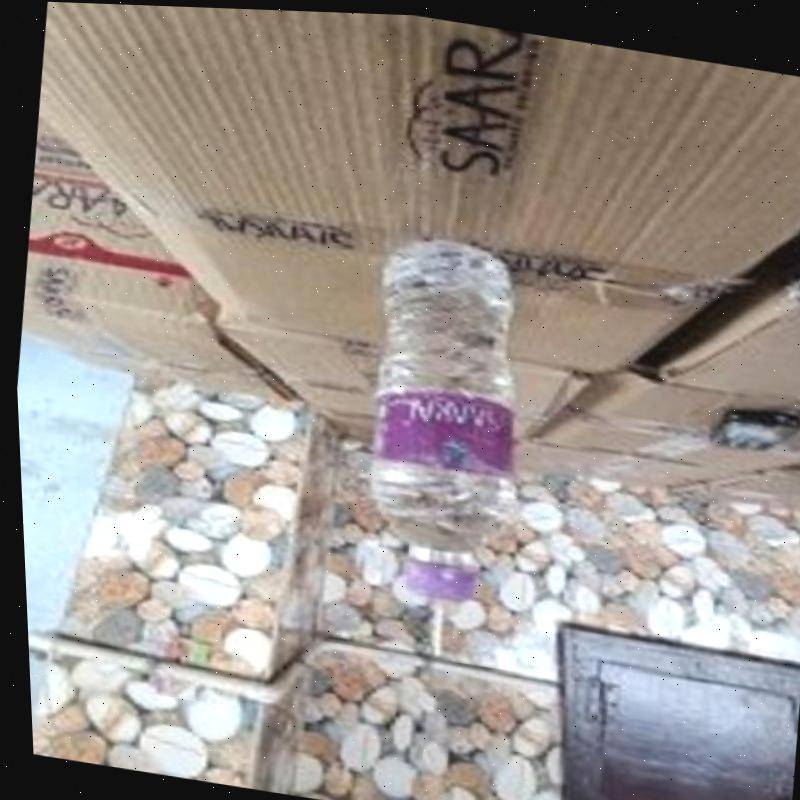botella: (335, 227, 553, 609)
